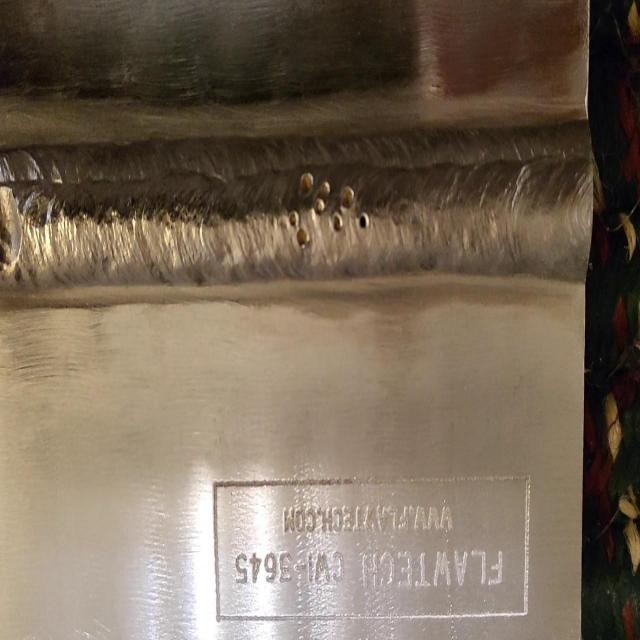Welding Line: (1, 142, 588, 291)
Workpiece: (0, 4, 588, 640)
porosity: (290, 170, 368, 252), (0, 182, 24, 273)
